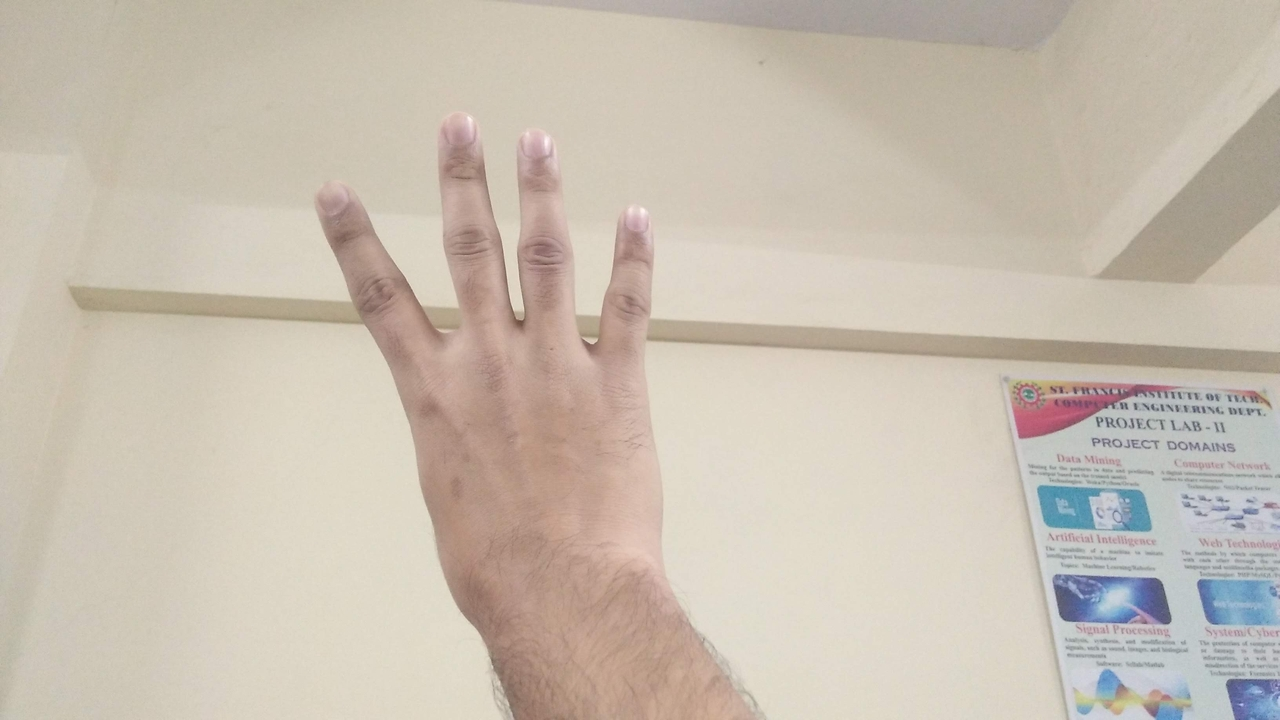fingertip: (304, 172, 364, 230), (508, 120, 562, 172), (432, 106, 484, 156), (608, 188, 656, 242)
